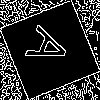A: (24, 24, 80, 74)
